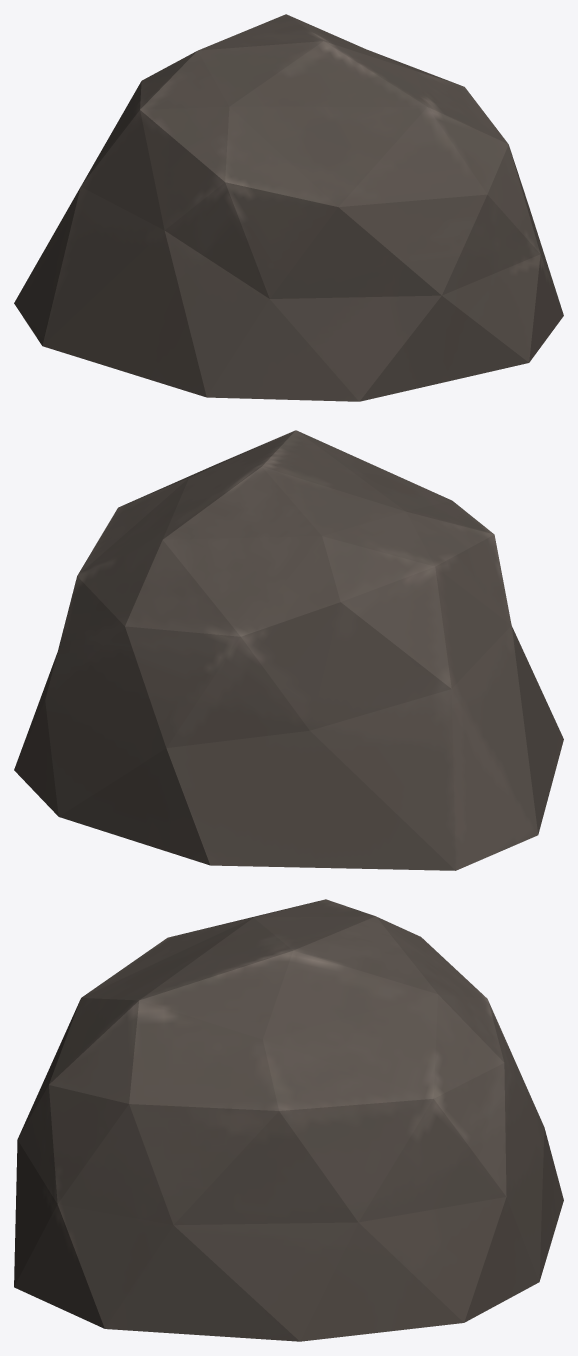
File: rock_debris.glb
3 renders of one model, top to bottom at view 1: azimuth 30°, elevation 25°; view 2: azimuth 150°, elevation 25°; view 3: azimuth 270°, elevation 25°, orthographic. The views are drawn at different scales.
Visible parts, largest first — view 1: Icosphere; view 2: Icosphere; view 3: Icosphere.
Boxes of the visible parts, box(x1,y1,x2,y2) form: Icosphere: box(14, 14, 563, 401); Icosphere: box(14, 430, 563, 870); Icosphere: box(14, 899, 563, 1341).
Bounding box in the file's own units: 2.07 × 1.12 × 1.93.
Materials: 1 (1 with a texture image).
